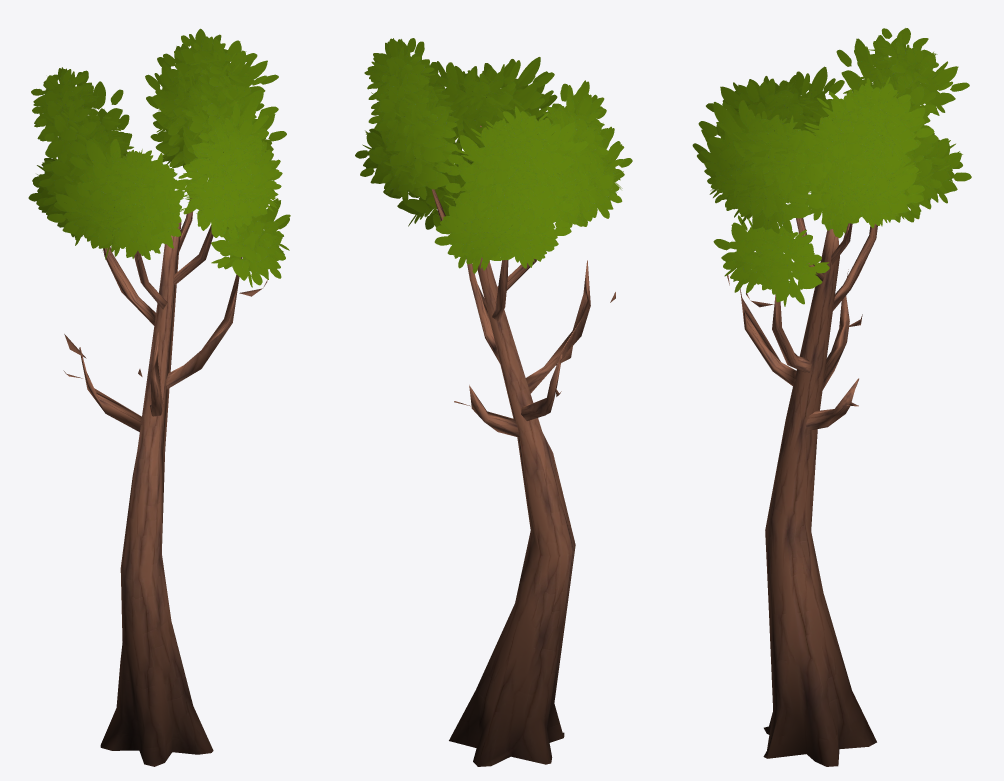
File: tree-other-1-young.glb
3 views of the same model, side by side, from view 1: azimuth 30°, elevation 25°; view 2: azimuth 150°, elevation 25°; view 3: azimuth 270°, elevation 25° (orthographic). The views are drawn at different scales.
Parts seen in each view (by area): view 1: CommonTree_4; view 2: CommonTree_4; view 3: CommonTree_4.
Boxes of the visible parts, x1,y1,x2,y2 form: CommonTree_4: (28,28,290,766); CommonTree_4: (355,38,632,766); CommonTree_4: (692,28,971,766).
Size of the model in its own units: 0.9728 by 2.4 by 0.9549.
Materials: 2 (2 with a texture image).
